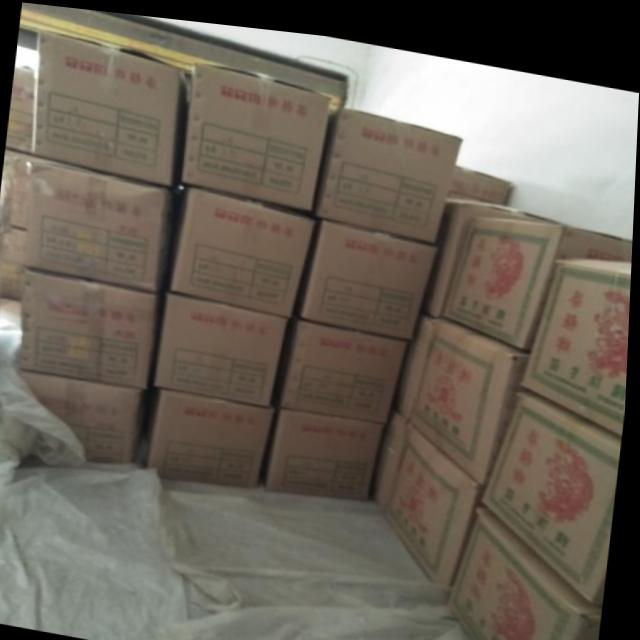box: (482, 372, 624, 598), (31, 28, 196, 183), (441, 206, 634, 337), (395, 302, 534, 476), (450, 490, 606, 640), (180, 58, 335, 203), (369, 398, 486, 584), (164, 178, 320, 311), (312, 97, 463, 233), (520, 245, 633, 424), (27, 152, 177, 286), (301, 207, 439, 332), (22, 265, 165, 385), (149, 285, 297, 400), (424, 187, 551, 306), (275, 308, 414, 415), (17, 364, 161, 464), (152, 382, 278, 484), (270, 401, 388, 491), (0, 147, 33, 229), (6, 63, 36, 153), (446, 153, 513, 193), (0, 222, 34, 299)
